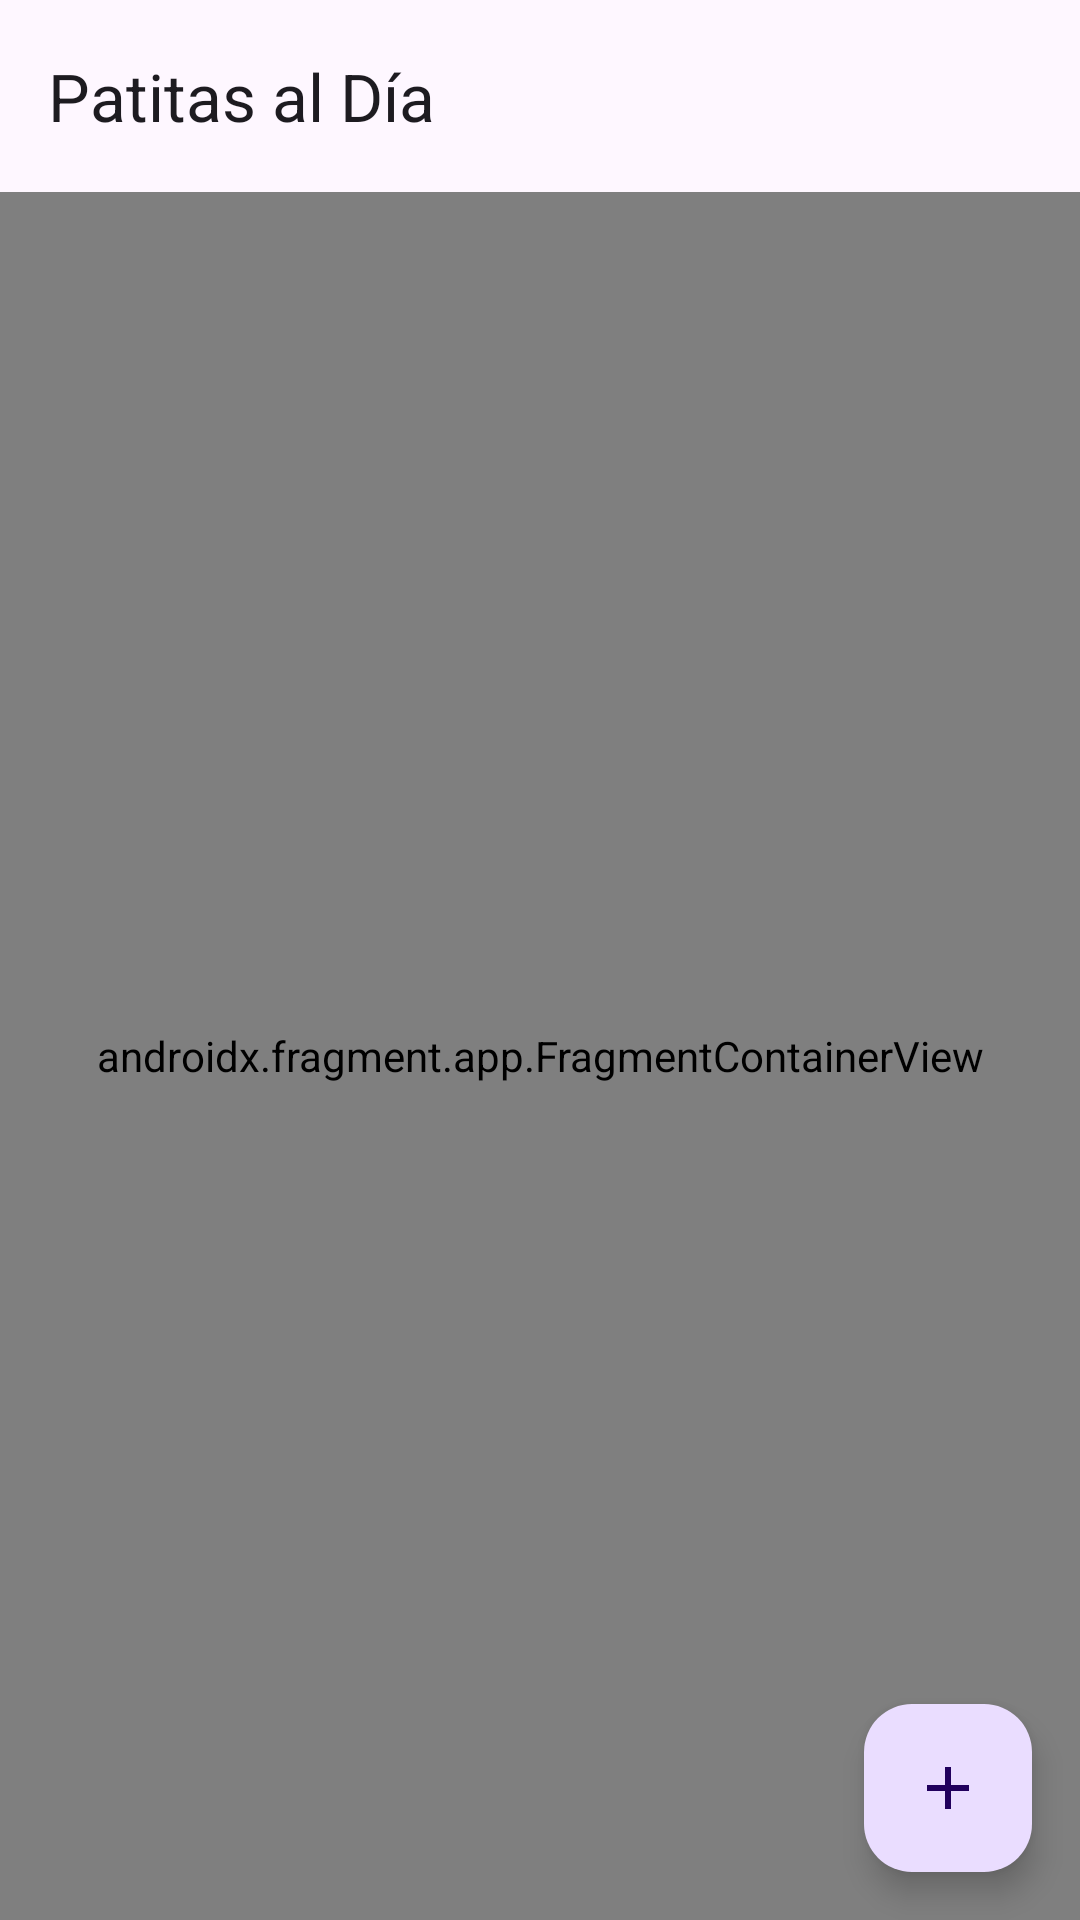

Locate icon controls on the screen. Image size 1080*1920, boxes as (x1, y1, x2, y2).
Agregar mascota: (864, 1704, 1032, 1872)
